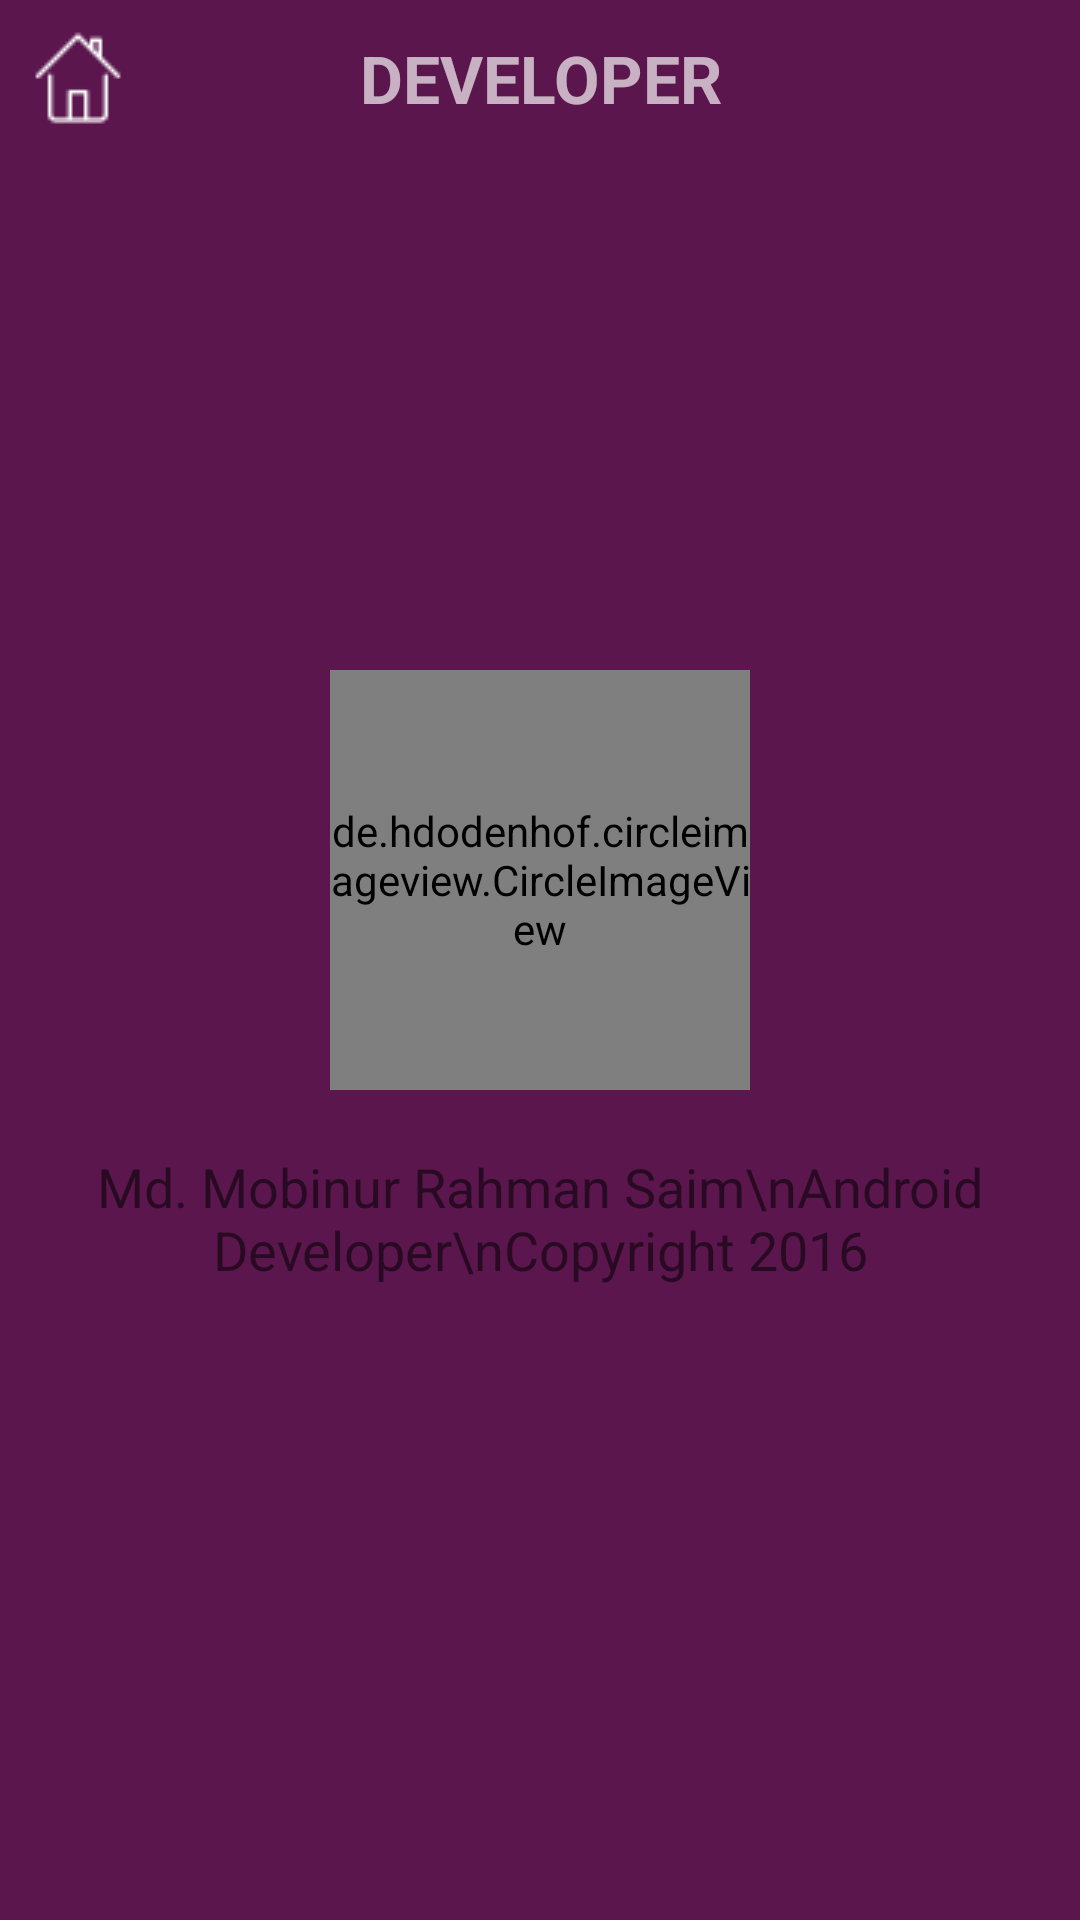

Where to tap for icons on this 1080×1920 app screen, as point (x, y):
home: point (78, 78)
